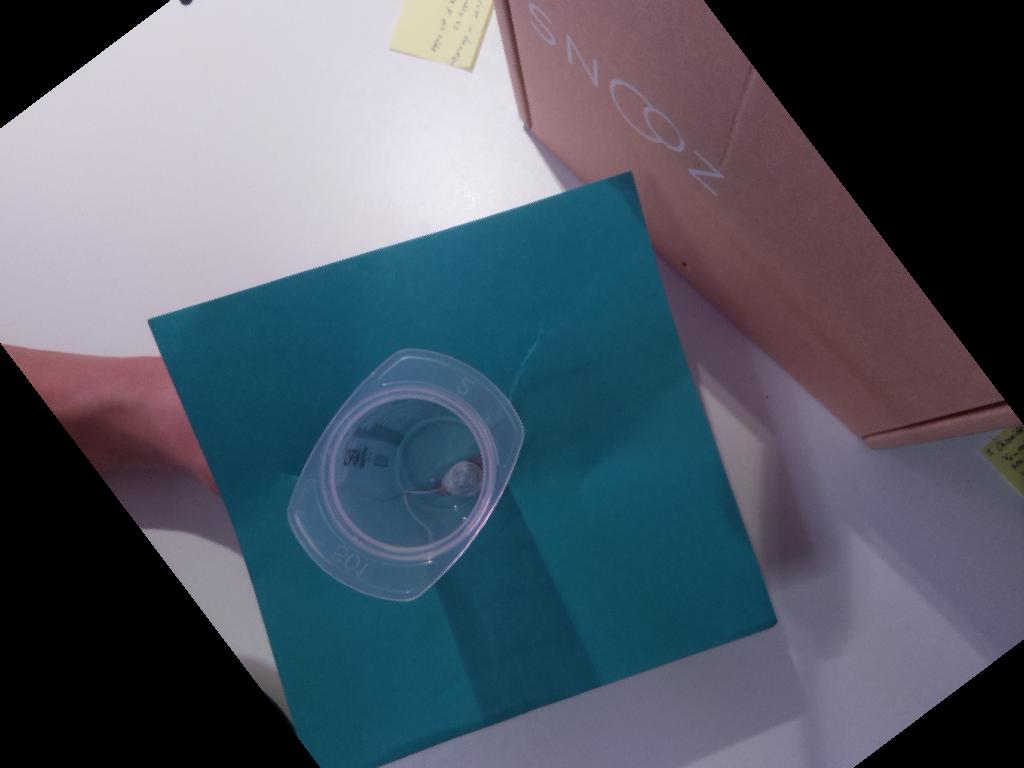clean: (285, 348, 525, 601)
